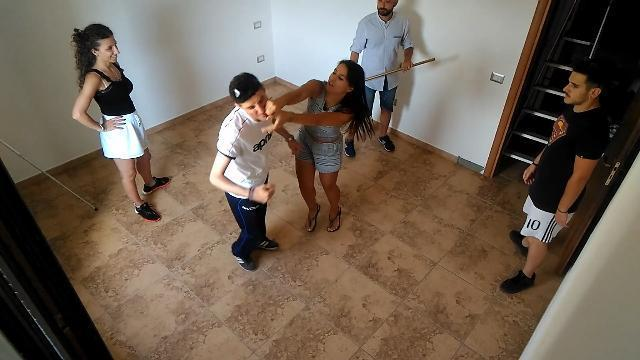non-violence: (496, 58, 624, 304), (58, 20, 180, 228), (328, 0, 439, 156)
violence: (209, 60, 367, 274)
